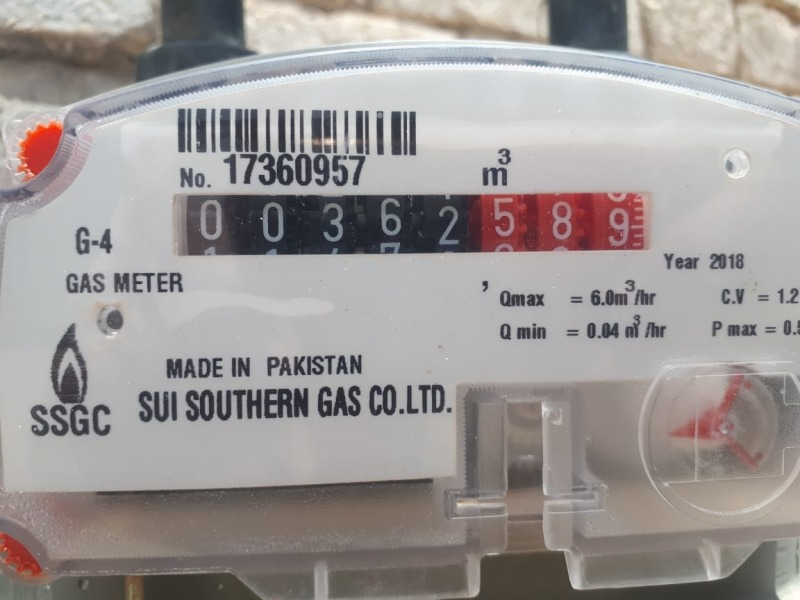ssgc: (168, 190, 653, 254)
